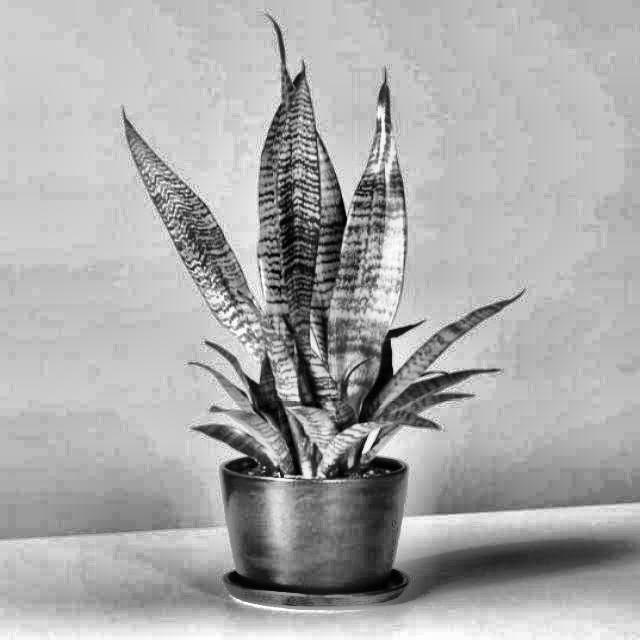plants: (105, 16, 518, 608)
